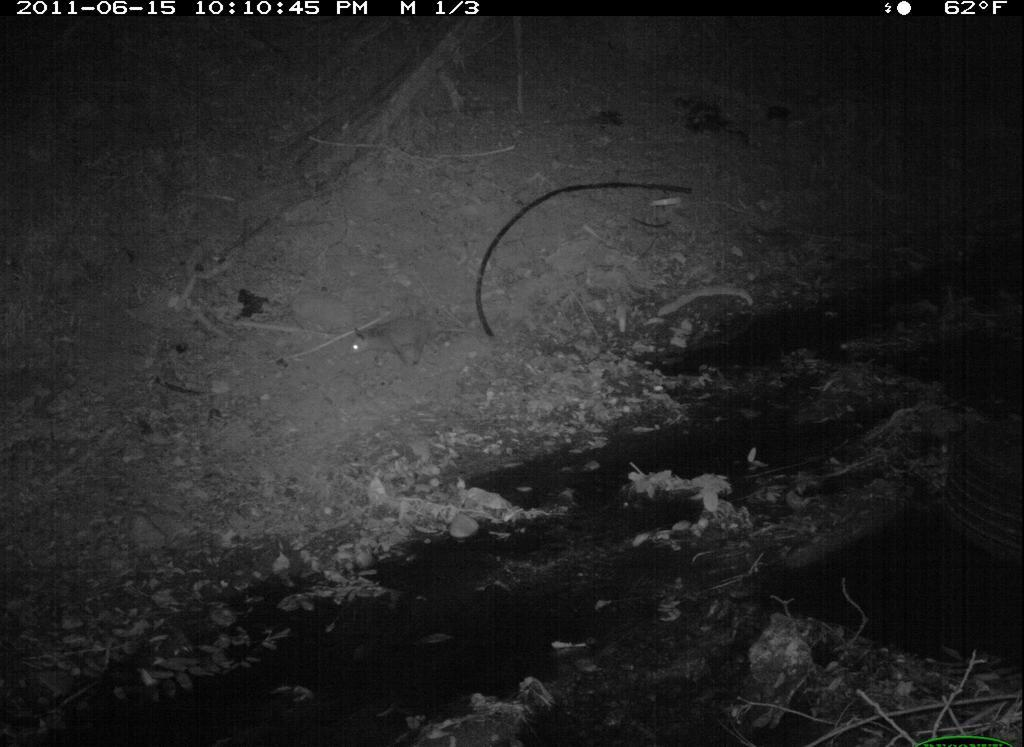opossum: (345, 319, 487, 373)
